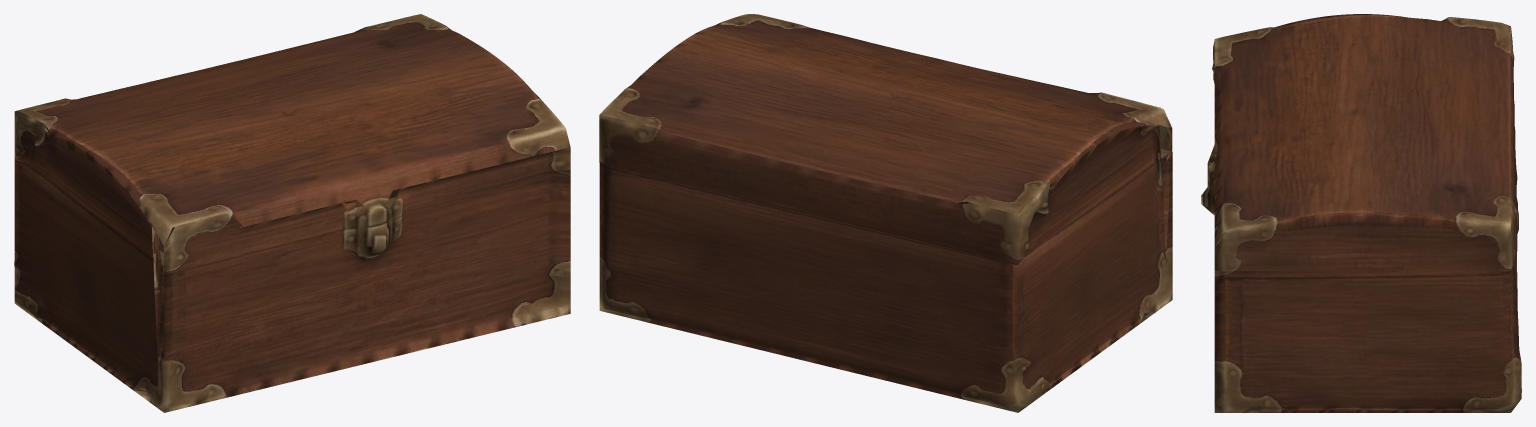
The picture shows the model from 3 angles, left to right: view 1: azimuth 30°, elevation 25°; view 2: azimuth 150°, elevation 25°; view 3: azimuth 270°, elevation 25°; orthographic projection. The views are drawn at different scales.
Parts seen in each view (by area): view 1: lid_shell, body; view 2: lid_shell, body; view 3: lid_shell, body.
Part boxes in pixels (box(x1,y1,x2,y2)): lid_shell: box(14, 14, 570, 268); body: box(14, 160, 570, 412); lid_shell: box(599, 14, 1172, 264); body: box(599, 152, 1172, 412); lid_shell: box(1207, 14, 1517, 271); body: box(1201, 80, 1521, 412).
Size of the model in its own units: 0.2963 by 0.14 by 0.1981.
3 materials, 1 textured.
